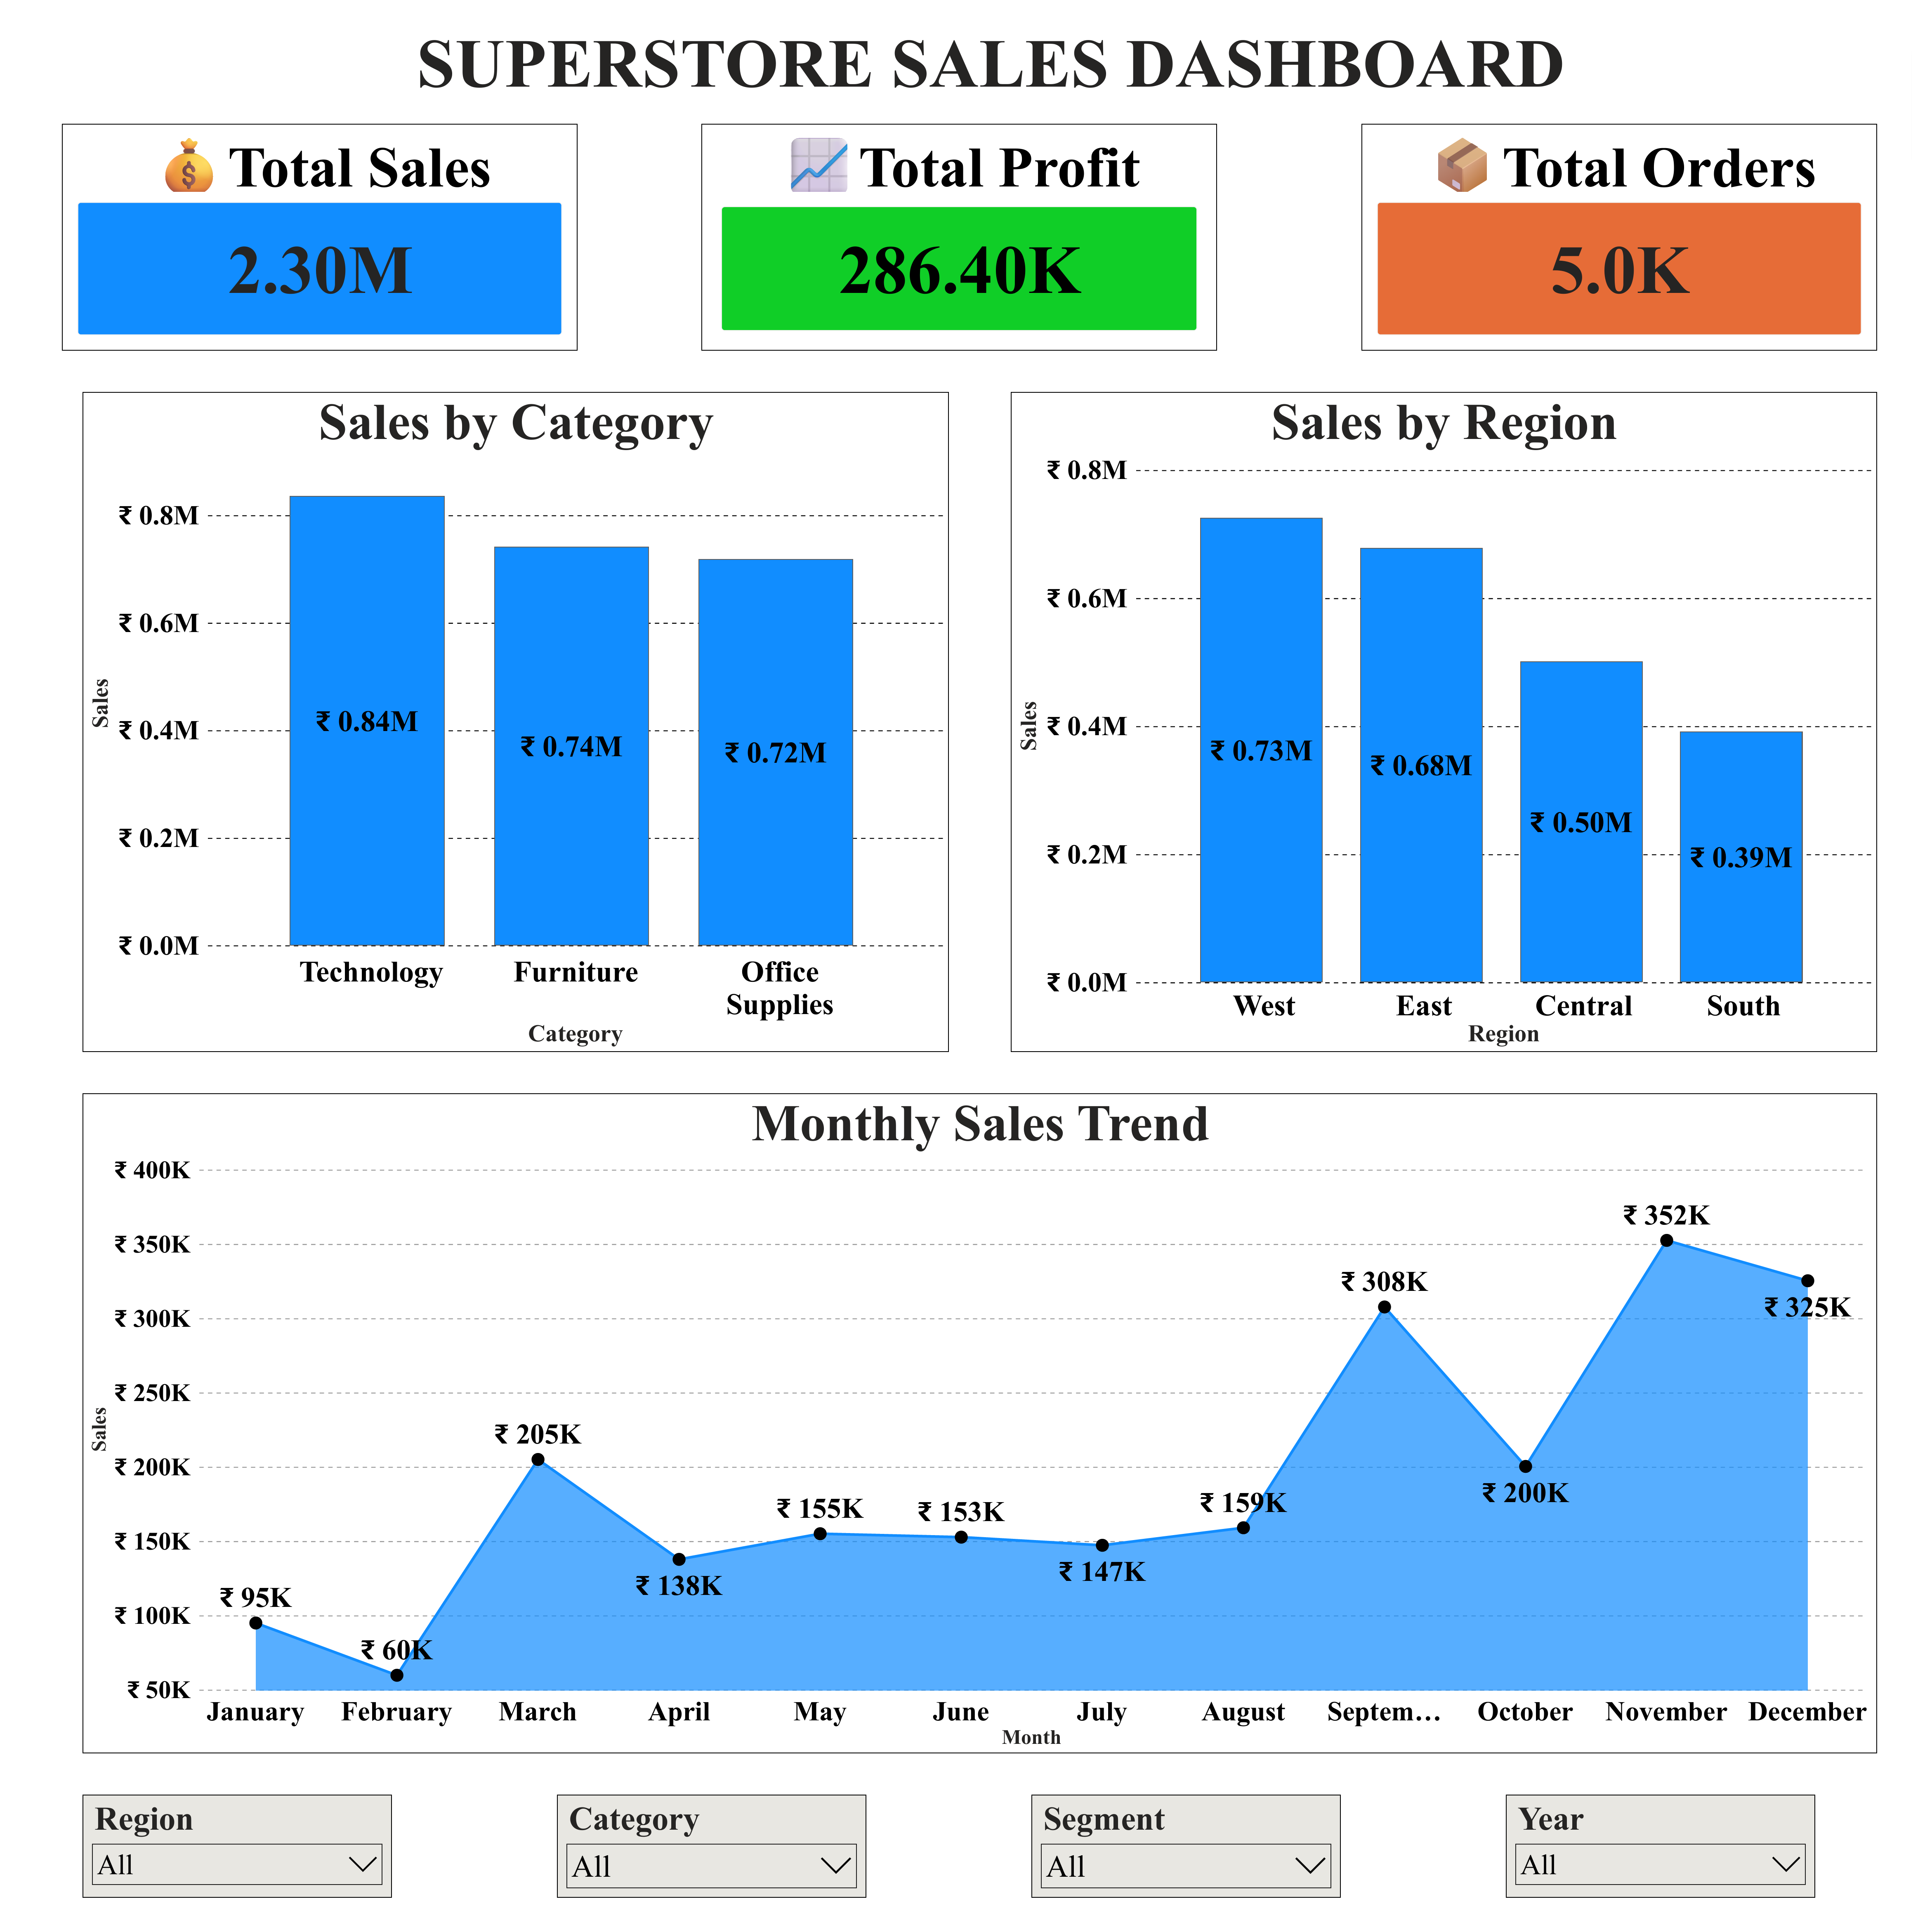

The page's visual inventory and layout, read from the dashboard file:
{"tool":"powerbi","page":{"name":"Super Sales Dashboard","canvas":[2200,2200],"ordinal":0},"visuals":[{"type":"cardVisual","title":"💰Total Sales ","fields":{"Data":["Sum(Sample_Superstore_Cleaned_UTF8.Sales)"]},"box":[48,120,600,264],"z":0},{"type":"cardVisual","title":"📈Total Profit","fields":{"Data":["Sum(Sample_Superstore_Cleaned_UTF8.Profit)"]},"box":[792,120,600,264],"z":1000},{"type":"cardVisual","title":"📦Total Orders","fields":{"Data":["Count(Sample_Superstore_Cleaned_UTF8.Order ID)"]},"box":[1560,120,600,264],"z":2000},{"type":"clusteredColumnChart","title":"Sales by Category","fields":{"Category":["Sample_Superstore_Cleaned_UTF8.Category"],"Y":["Sum(Sample_Superstore_Cleaned_UTF8.Sales)"]},"box":[72,432,1008,768],"z":3000},{"type":"clusteredColumnChart","title":"Sales by Region","fields":{"Y":["Sum(Sample_Superstore_Cleaned_UTF8.Sales)"],"Category":["Sample_Superstore_Cleaned_UTF8.Region"]},"box":[1152,432,1008,768],"z":4000},{"type":"textbox","box":[456,0,1368,120],"z":5000},{"type":"lineChart","title":"Monthly Sales Trend","fields":{"Category":["Sample_Superstore_Cleaned_UTF8.Order Date New.Variation.Date Hierarchy.Month"],"Y":["Sum(Sample_Superstore_Cleaned_UTF8.Sales)"]},"box":[72,1248,2088,768],"z":6000},{"type":"slicer","fields":{"Values":["Sample_Superstore_Cleaned_UTF8.Region"]},"box":[72,2064,360,120],"z":7000},{"type":"slicer","fields":{"Values":["Sample_Superstore_Cleaned_UTF8.Segment"]},"box":[1176,2064,360,120],"z":8000},{"type":"slicer","fields":{"Values":["Sample_Superstore_Cleaned_UTF8.Order Date New.Variation.Date Hierarchy.Year"]},"box":[1728,2064,360,120],"z":9000},{"type":"slicer","fields":{"Values":["Sample_Superstore_Cleaned_UTF8.Category"]},"box":[624,2064,360,120],"z":10000}]}

Visuals, with their boxes in screenshot pixels (x1, y1, x2, y2), scaled from the page's 2200x2200 canvas onto the 1932x1932 screenshot:
"💰Total Sales " cardVisual: Rect(42, 105, 569, 337)
"📈Total Profit" cardVisual: Rect(696, 105, 1222, 337)
"📦Total Orders" cardVisual: Rect(1370, 105, 1897, 337)
"Sales by Category" clusteredColumnChart: Rect(63, 380, 948, 1054)
"Sales by Region" clusteredColumnChart: Rect(1012, 380, 1897, 1054)
textbox: Rect(401, 0, 1602, 105)
"Monthly Sales Trend" lineChart: Rect(63, 1096, 1897, 1770)
slicer - Sample_Superstore_Cleaned_UTF8.Region: Rect(63, 1813, 380, 1918)
slicer - Sample_Superstore_Cleaned_UTF8.Segment: Rect(1033, 1813, 1349, 1918)
slicer - Sample_Superstore_Cleaned_UTF8.Order Date New.Variation.Date Hierarchy.Year: Rect(1517, 1813, 1834, 1918)
slicer - Sample_Superstore_Cleaned_UTF8.Category: Rect(548, 1813, 864, 1918)
